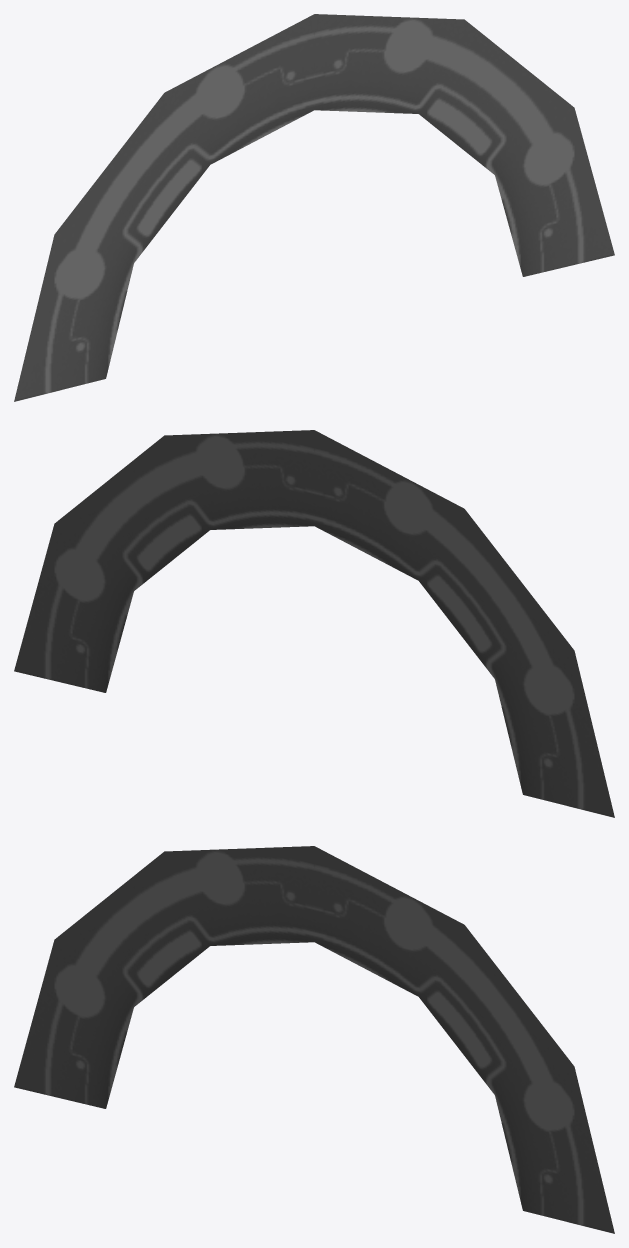
Rendered from mirror_uv2.glb.
3 renders of one model, top to bottom at view 1: azimuth 30°, elevation 25°; view 2: azimuth 150°, elevation 25°; view 3: azimuth 330°, elevation 25°, orthographic.
Visible parts, largest first — view 1: lifangti.001; view 2: lifangti.001; view 3: lifangti.001.
Boxes of the visible parts, bbox=[...] form: lifangti.001: bbox=[14, 14, 614, 401]; lifangti.001: bbox=[14, 430, 614, 817]; lifangti.001: bbox=[14, 846, 614, 1233].
Size of the model in its own units: 12.5 by 6.25 by 0.
Materials: 1 (1 with a texture image).
